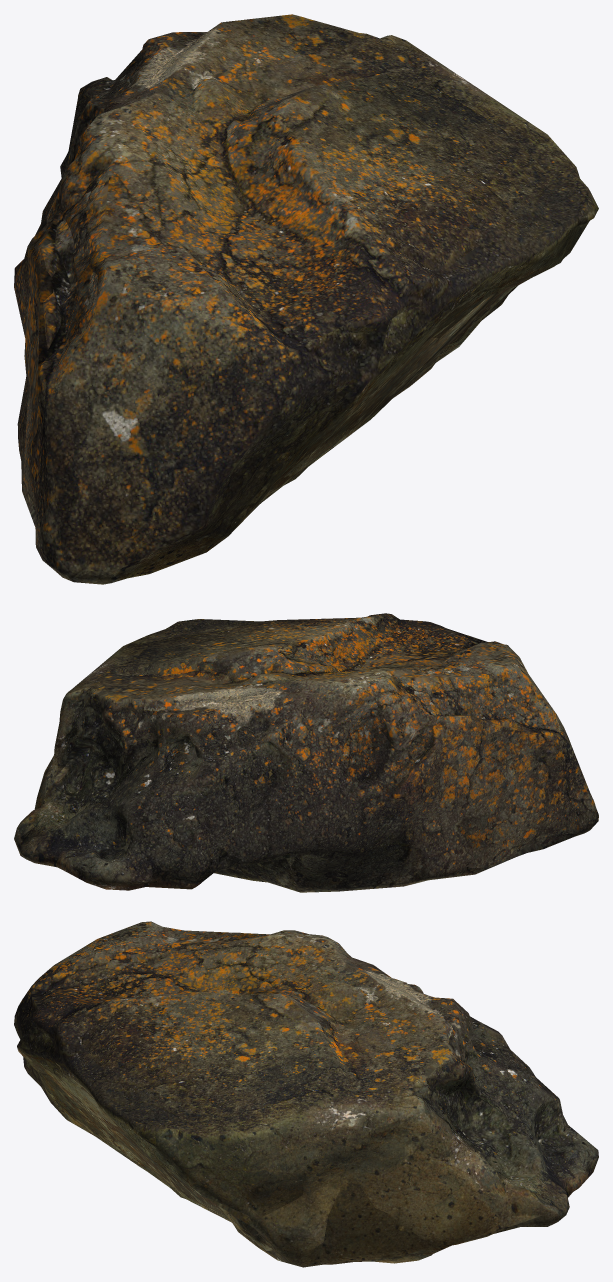
Rendered from volcanic_dolerite_rocks_qjmvt.glb.
The picture shows the model from 3 angles, top to bottom: view 1: azimuth 30°, elevation 25°; view 2: azimuth 150°, elevation 25°; view 3: azimuth 270°, elevation 25°; orthographic projection. The views are drawn at different scales.
Visible parts, largest first — view 1: qjmvT_LOD0_TIER2_000, qjmvT_LOD0_TIER2_000_MatID_1_0_far; view 2: qjmvT_LOD0_TIER2_000, qjmvT_LOD0_TIER2_000_MatID_1_0_far; view 3: qjmvT_LOD0_TIER2_000, qjmvT_LOD0_TIER2_000_MatID_1_0_far.
Part boxes in pixels (bbox=[...]): qjmvT_LOD0_TIER2_000: bbox=[14, 16, 598, 584]; qjmvT_LOD0_TIER2_000_MatID_1_0_far: bbox=[22, 14, 589, 572]; qjmvT_LOD0_TIER2_000: bbox=[14, 613, 598, 892]; qjmvT_LOD0_TIER2_000_MatID_1_0_far: bbox=[20, 617, 588, 891]; qjmvT_LOD0_TIER2_000: bbox=[14, 921, 598, 1267]; qjmvT_LOD0_TIER2_000_MatID_1_0_far: bbox=[18, 930, 593, 1263].
Bounding box in the file's own units: 0.6094 × 0.3067 × 0.6944.
Materials: 1 (1 with a texture image).
